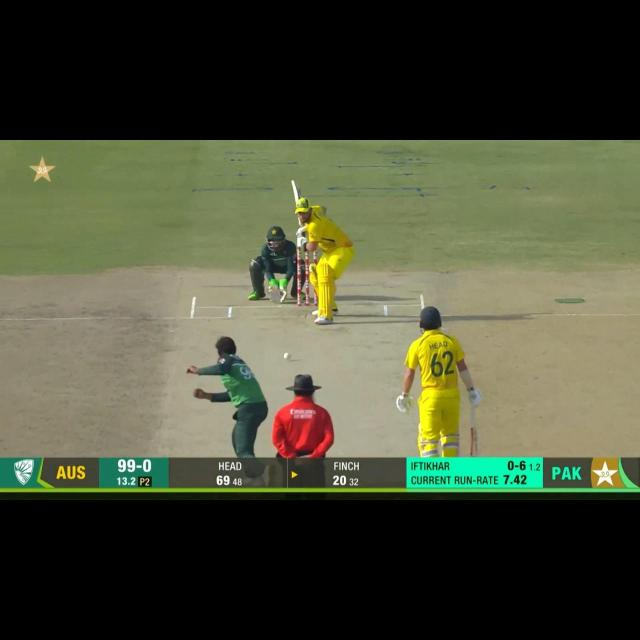bat: (287, 178, 307, 228), (469, 428, 484, 456)
toe: (289, 178, 299, 189)
